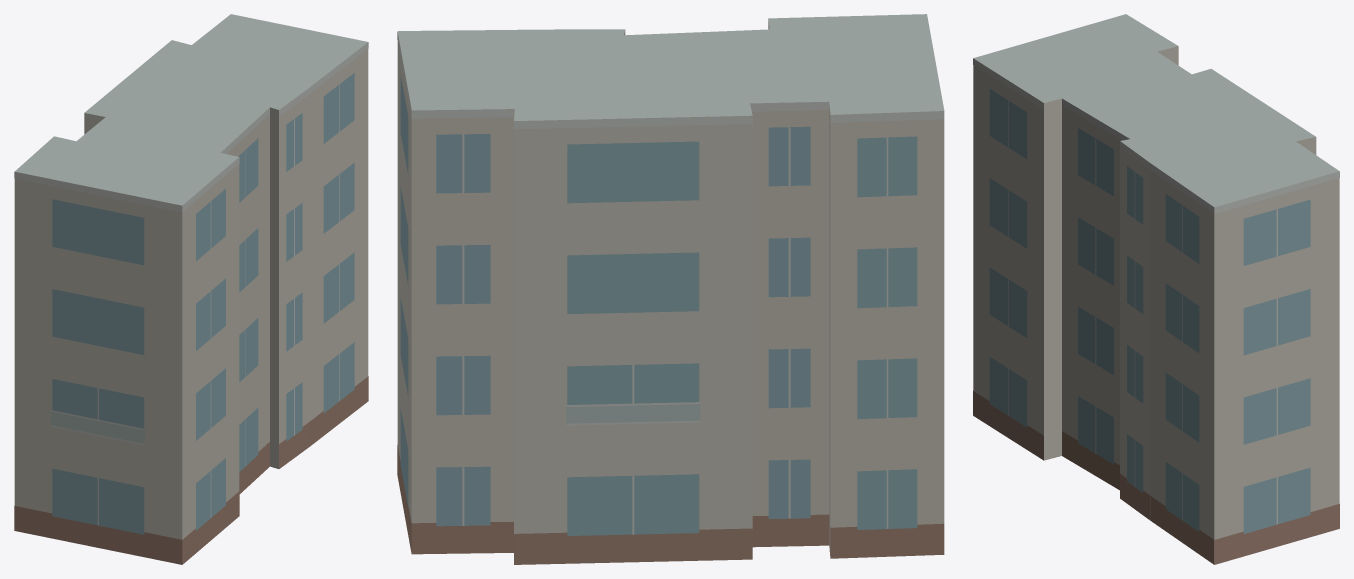
File: survey-upis-32470939.glb
The picture shows the model from 3 angles, left to right: view 1: azimuth 30°, elevation 25°; view 2: azimuth 150°, elevation 25°; view 3: azimuth 270°, elevation 25°; orthographic projection. The views are drawn at different scales.
Visible parts, largest first — view 1: survey-upis-32470939.tmp; view 2: survey-upis-32470939.tmp; view 3: survey-upis-32470939.tmp.
Boxes of the visible parts, x1,y1,x2,y2 form: survey-upis-32470939.tmp: (14, 14, 368, 564); survey-upis-32470939.tmp: (397, 14, 944, 564); survey-upis-32470939.tmp: (973, 14, 1339, 564).
Bounding box in the file's own units: 15.33 × 13.2 × 12.28.
